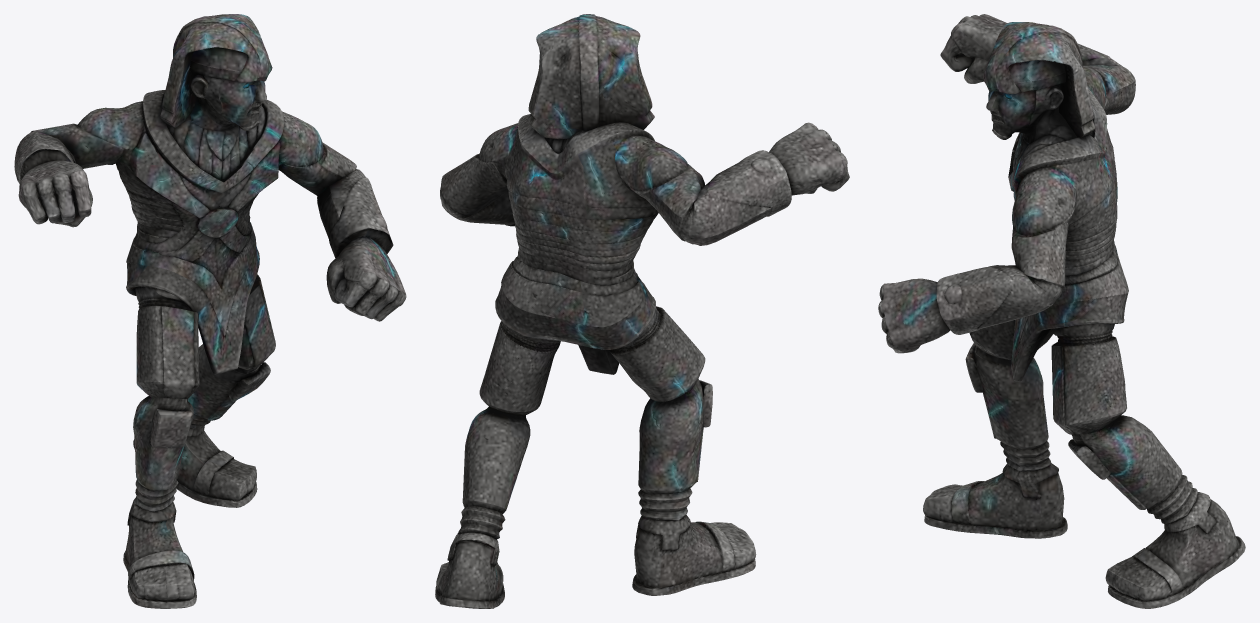
Rendered from MZ4250 - Stone Golem.glb.
The picture shows the model from 3 angles, left to right: view 1: azimuth 30°, elevation 25°; view 2: azimuth 150°, elevation 25°; view 3: azimuth 270°, elevation 25°; orthographic projection. The views are drawn at different scales.
Visible parts, largest first — view 1: Stone Golem.001; view 2: Stone Golem.001; view 3: Stone Golem.001.
Part boxes in pixels (x1,y1,x2,y2): Stone Golem.001: [14, 14, 406, 608]; Stone Golem.001: [435, 14, 849, 608]; Stone Golem.001: [878, 14, 1245, 608].
Bounding box in the file's own units: 98.78 × 137 × 84.67.
1 material, 1 textured.
